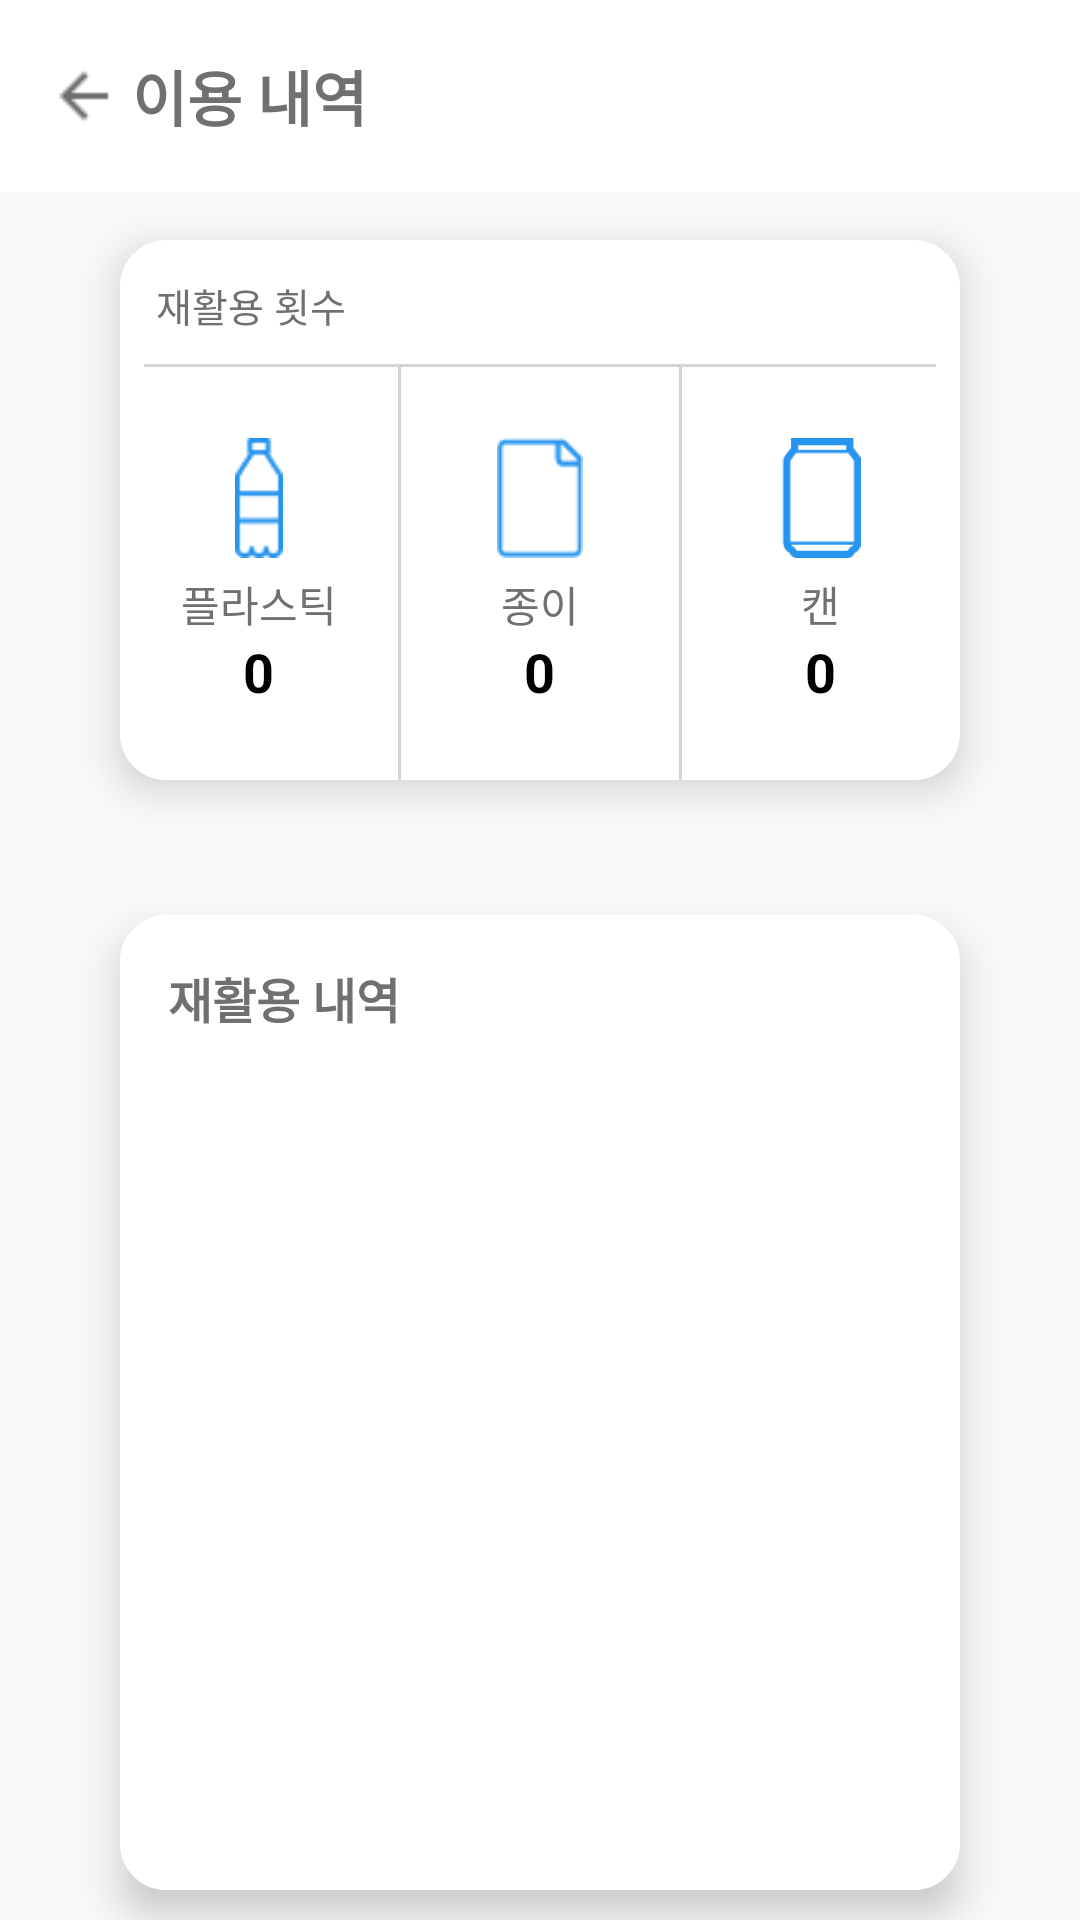

Named icons in this screenshot (1080 x 1920) and their bounding boxes, (x1, y1, x2, y2):
backbutton: (60, 72, 109, 120)
